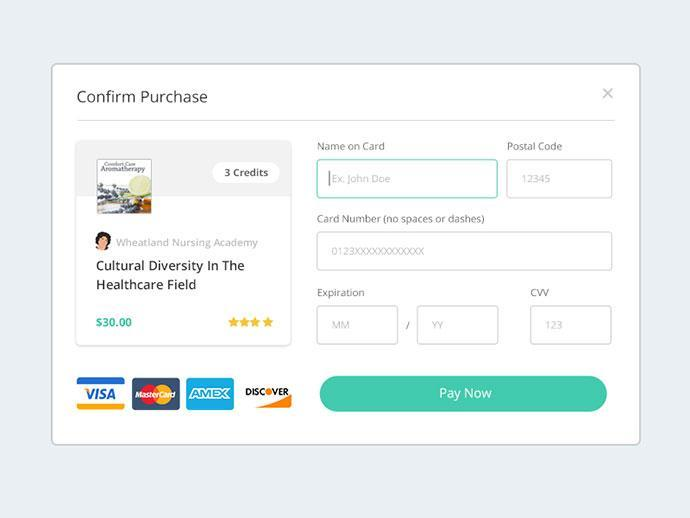button: (321, 376, 609, 414)
input: (317, 232, 613, 271), (317, 161, 498, 199), (507, 160, 614, 199), (532, 307, 613, 345), (318, 306, 398, 344), (418, 307, 498, 345)
label: (316, 214, 488, 226), (318, 142, 386, 154), (506, 141, 564, 152), (316, 290, 368, 301), (530, 288, 553, 298)
